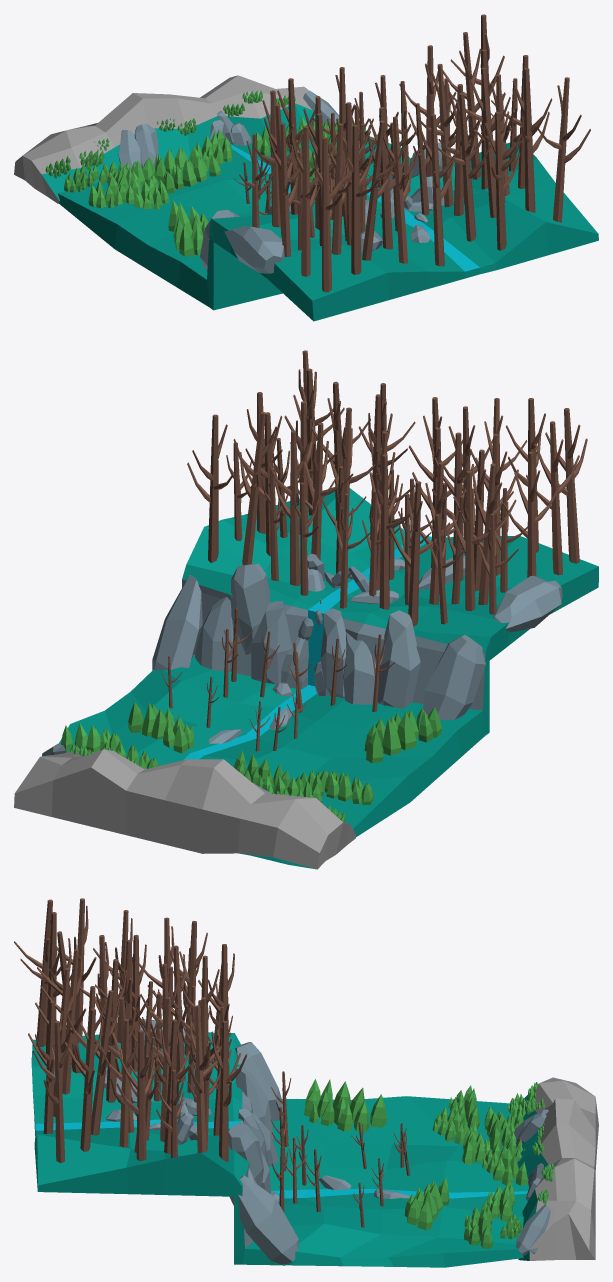
Rendered from Forest Waterfall Vignette.glb.
3 renders of one model, top to bottom at view 1: azimuth 30°, elevation 25°; view 2: azimuth 150°, elevation 25°; view 3: azimuth 270°, elevation 25°, orthographic. The views are drawn at different scales.
Parts seen in each view (by area): view 1: group1448003141, group330889455, group2105705187, group999734947, group1005534020, group232169749, group1228435741, group1359693211, group689766875, group518766841, group1156024697, group540304106 (+40 smaller); view 2: group1448003141, group330889455, group76416712, group1560083357, group1546540314, group2105705187, group819401414, group1905871007, group1254598726, group371770101, group284057319, group402942308 (+45 smaller); view 3: group1448003141, group330889455, group1546540314, group819401414, group935078432, group1388853863, group1005534020, group2046084249, group1359693211, group284057319, group1941577787, group76416712 (+40 smaller).
Boxes of the visible parts, x1=… form: group1448003141: x1=57, y1=135, x2=598, y2=321; group330889455: x1=14, y1=75, x2=315, y2=203; group2105705187: x1=224, y1=226, x2=284, y2=273; group999734947: x1=312, y1=137, x2=347, y2=292; group1005534020: x1=512, y1=68, x2=552, y2=212; group232169749: x1=344, y1=124, x2=380, y2=274; group1228435741: x1=419, y1=114, x2=459, y2=266; group1359693211: x1=538, y1=77, x2=590, y2=222; group689766875: x1=438, y1=92, x2=491, y2=241; group518766841: x1=292, y1=126, x2=330, y2=276; group1156024697: x1=485, y1=111, x2=521, y2=250; group540304106: x1=383, y1=116, x2=421, y2=263; group1448003141: x1=58, y1=488, x2=598, y2=836; group330889455: x1=14, y1=749, x2=355, y2=869; group76416712: x1=423, y1=635, x2=485, y2=720; group1560083357: x1=377, y1=610, x2=420, y2=708; group1546540314: x1=152, y1=575, x2=202, y2=670; group2105705187: x1=493, y1=575, x2=562, y2=632; group819401414: x1=364, y1=707, x2=441, y2=763; group1905871007: x1=231, y1=563, x2=269, y2=654; group1254598726: x1=251, y1=601, x2=292, y2=684; group371770101: x1=195, y1=597, x2=233, y2=670; group284057319: x1=128, y1=702, x2=194, y2=753; group402942308: x1=342, y1=632, x2=375, y2=704; group1448003141: x1=31, y1=1032, x2=528, y2=1267; group330889455: x1=517, y1=1077, x2=598, y2=1260; group1546540314: x1=229, y1=1175, x2=298, y2=1265; group819401414: x1=304, y1=1079, x2=386, y2=1131; group935078432: x1=116, y1=1030, x2=155, y2=1160; group1388853863: x1=211, y1=1020, x2=247, y2=1161; group1005534020: x1=64, y1=1008, x2=103, y2=1151; group2046084249: x1=188, y1=1005, x2=229, y2=1152; group1359693211: x1=33, y1=1021, x2=71, y2=1162; group284057319: x1=404, y1=1177, x2=449, y2=1230; group1941577787: x1=80, y1=990, x2=120, y2=1135; group76416712: x1=235, y1=1042, x2=283, y2=1121.
Bounding box in the file's own units: 4.04 × 3.16 × 6.46.
